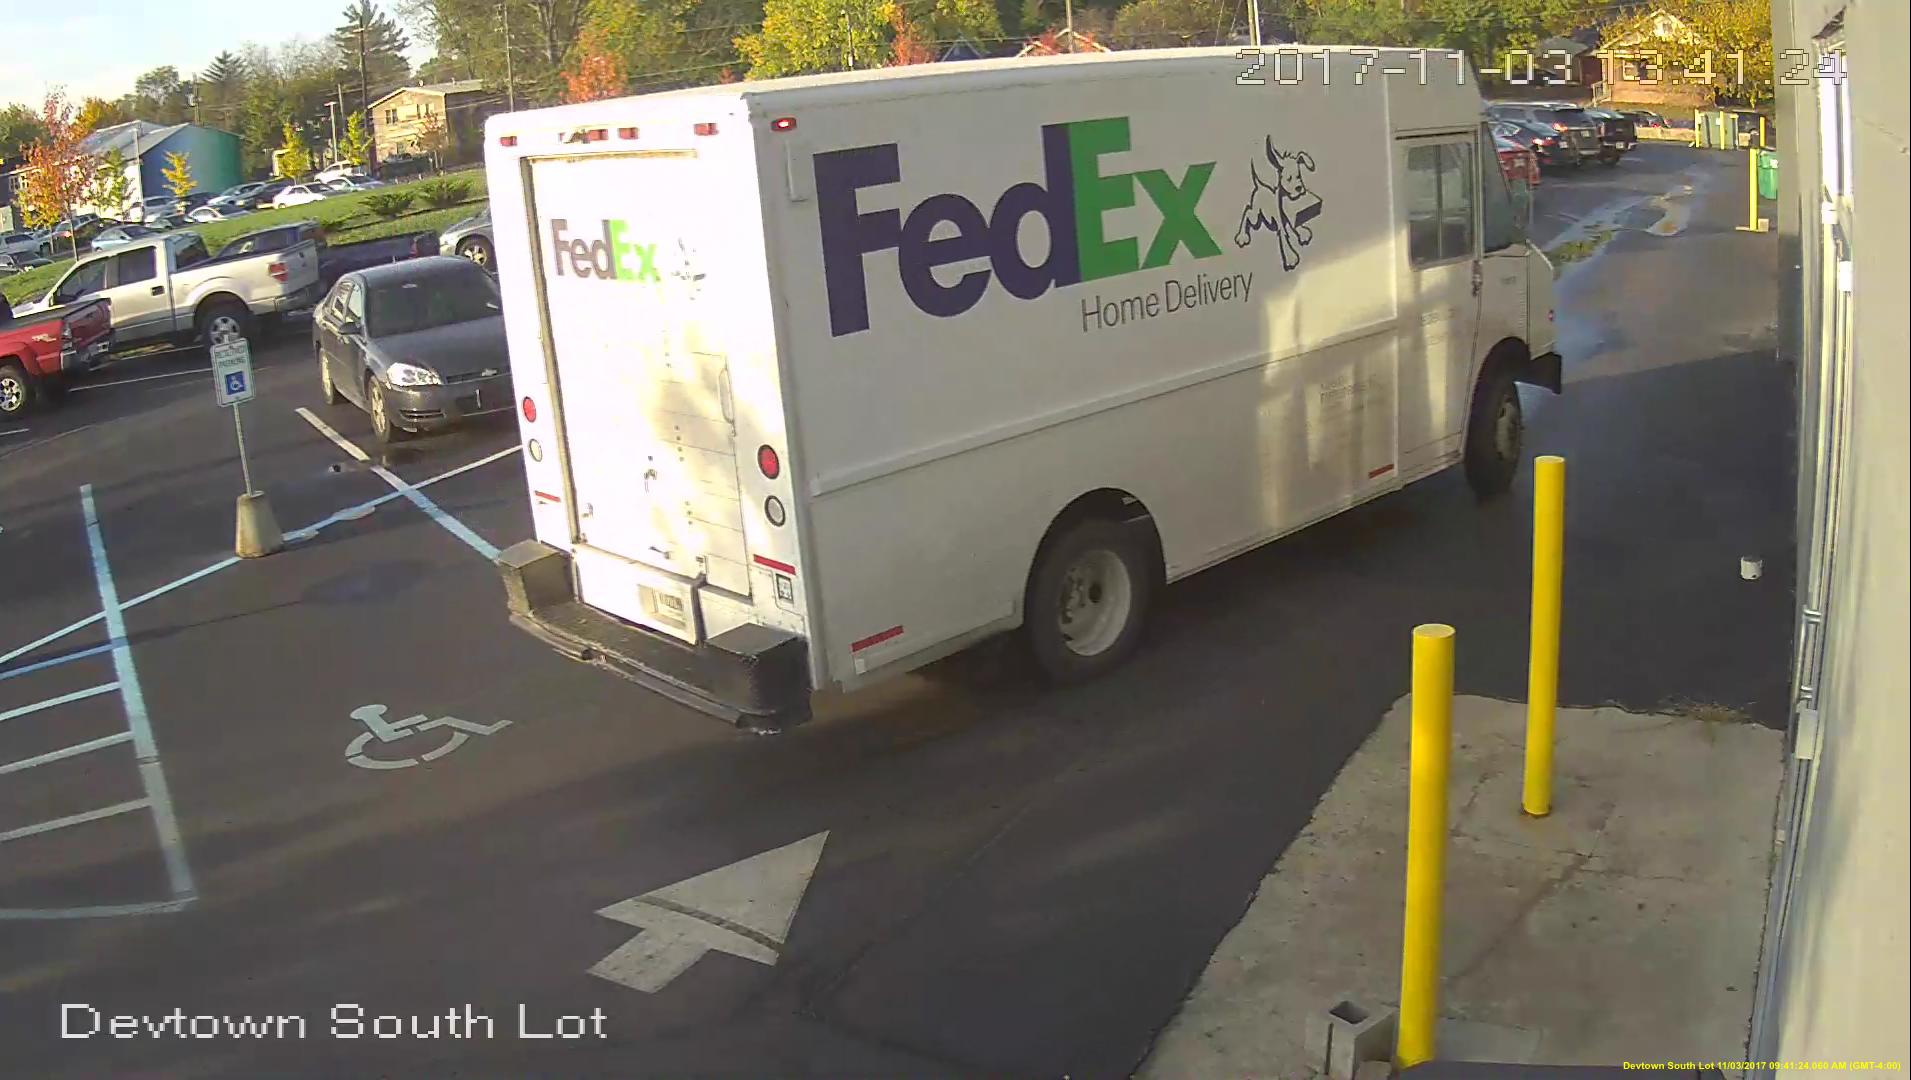fedex_truck: (479, 51, 1562, 740)
